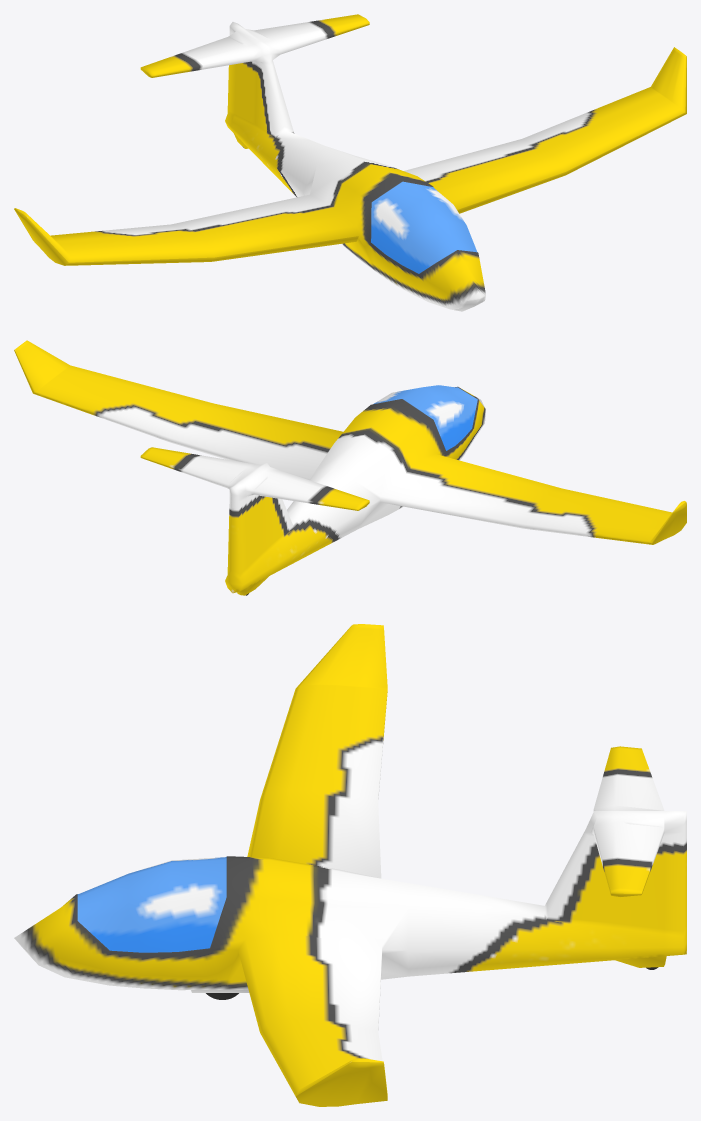
3 views of the same model, one above another, from view 1: azimuth 30°, elevation 25°; view 2: azimuth 150°, elevation 25°; view 3: azimuth 270°, elevation 25° (orthographic). The views are drawn at different scales.
Parts seen in each view (by area): view 1: Glider_0; view 2: Glider_0; view 3: Glider_0.
Boxes of the visible parts, x1,y1,x2,y2 form: Glider_0: (14, 14, 686, 311); Glider_0: (14, 340, 686, 595); Glider_0: (14, 624, 686, 1106).
Bounding box in the file's own units: 15.03 × 2.98 × 9.75.
Materials: 1 (1 with a texture image).
